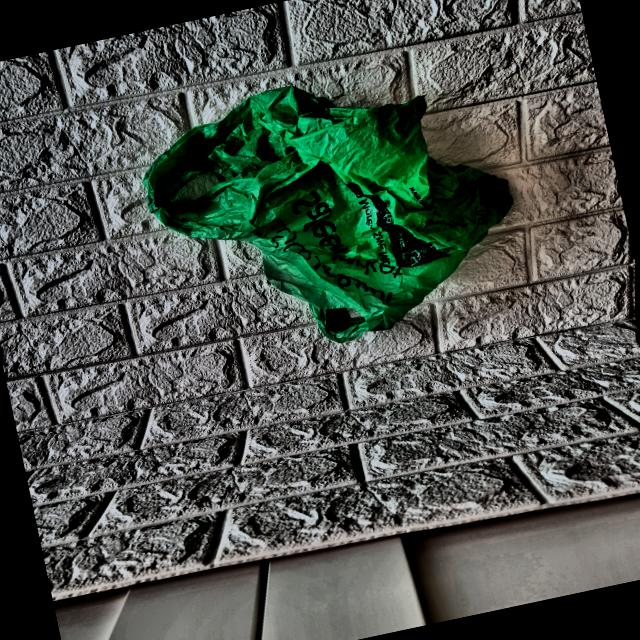plastic bag: (132, 41, 535, 384)
